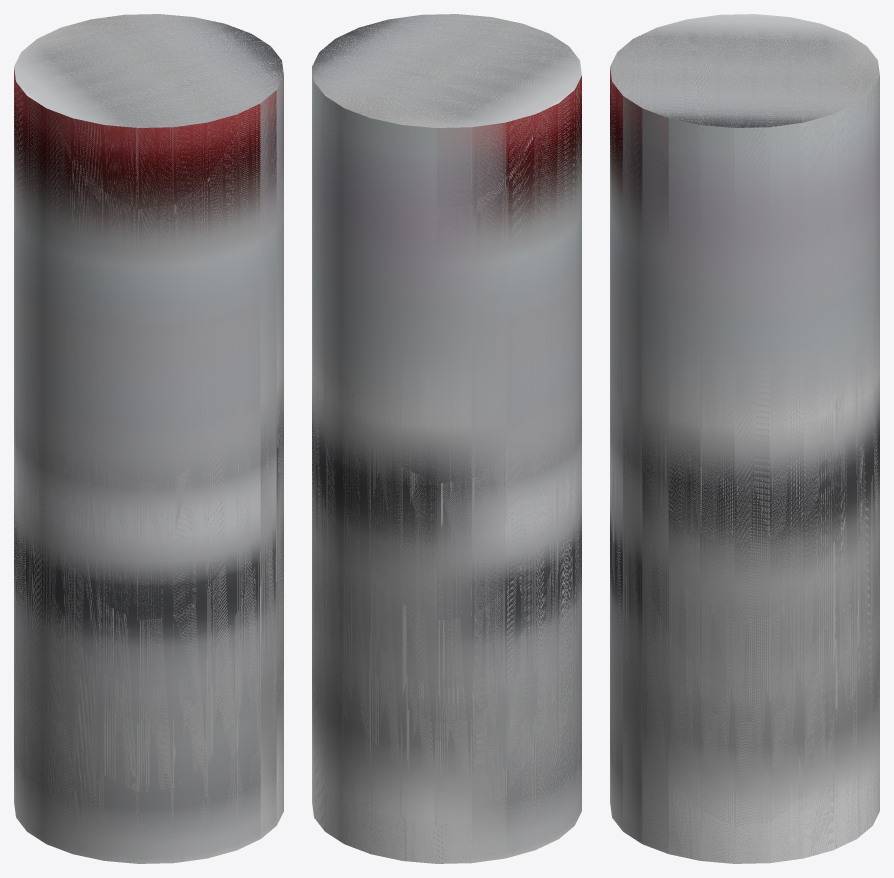
File: original-40.obj
The picture shows the model from 3 angles, left to right: view 1: azimuth 30°, elevation 25°; view 2: azimuth 150°, elevation 25°; view 3: azimuth 270°, elevation 25°; orthographic projection.
Parts seen in each view (by area): view 1: Component_8_8/Component_8/mesh17/mesh17-geometry#mesh17-geometry; view 2: Component_8_8/Component_8/mesh17/mesh17-geometry#mesh17-geometry; view 3: Component_8_8/Component_8/mesh17/mesh17-geometry#mesh17-geometry.
Part boxes in pixels (left/top/right/bottom): Component_8_8/Component_8/mesh17/mesh17-geometry#mesh17-geometry: left=14, top=14, right=283, bottom=863; Component_8_8/Component_8/mesh17/mesh17-geometry#mesh17-geometry: left=312, top=14, right=581, bottom=863; Component_8_8/Component_8/mesh17/mesh17-geometry#mesh17-geometry: left=610, top=14, right=879, bottom=863.
Size of the model in its own units: 0.00655 by 0.0197 by 0.00655.
